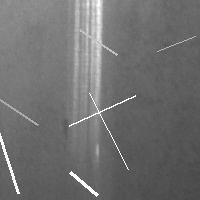scratches: (70, 1, 102, 156), (84, 88, 133, 174), (64, 90, 140, 130), (0, 67, 43, 130), (0, 95, 23, 198), (75, 25, 122, 60), (65, 167, 102, 200), (152, 31, 200, 56)
